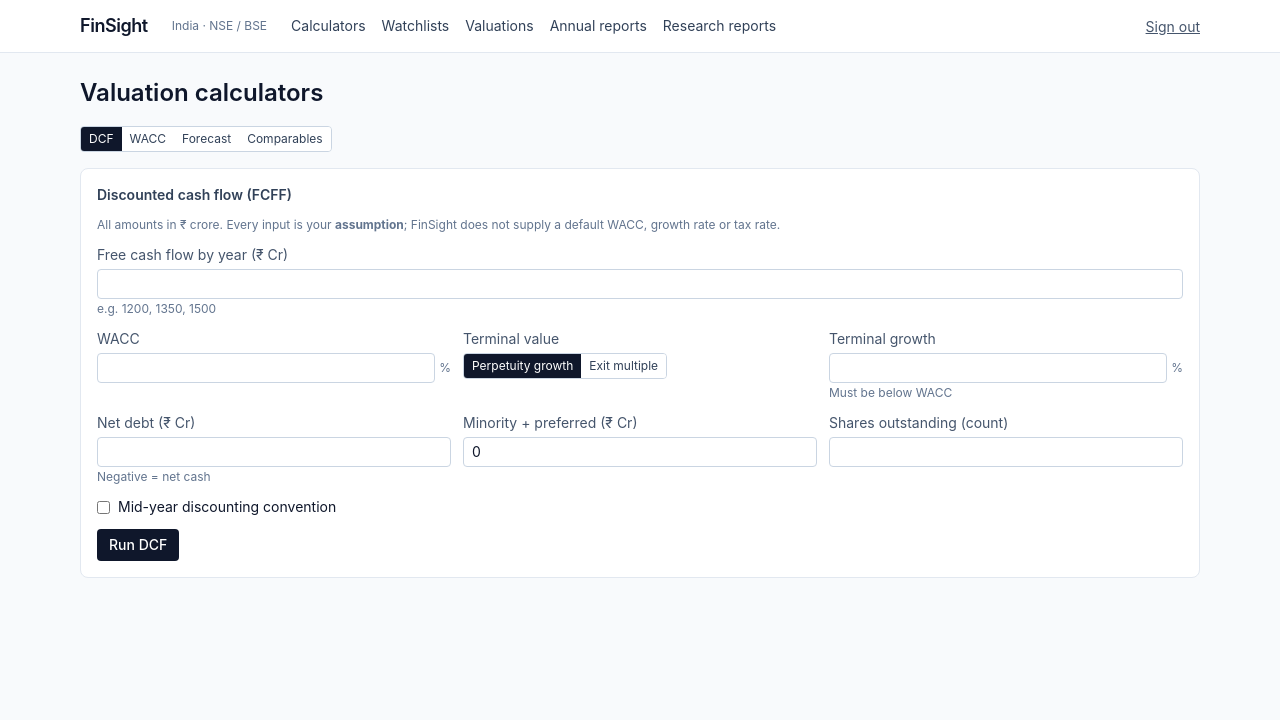
Test: DCF calculator › rejects incomplete input locally
Click the button "Run DCF" at [138, 545], box [97,529,179,561]
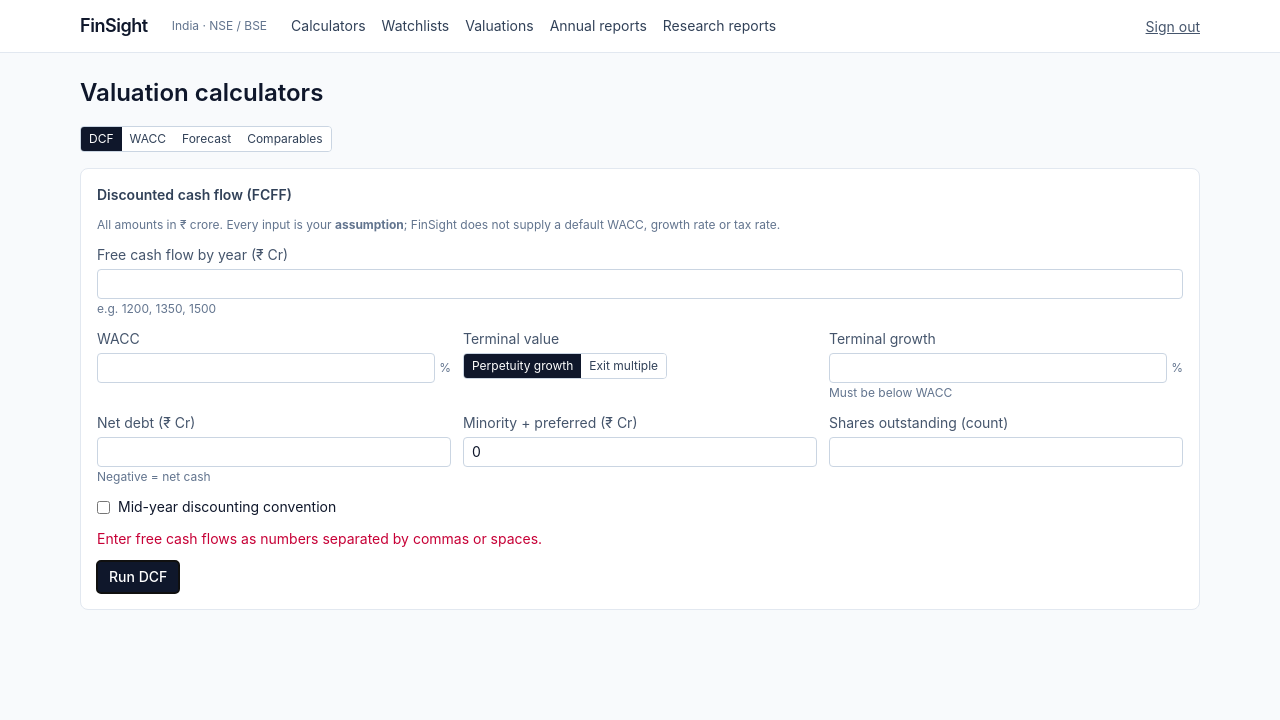
Check: the message shows "free cash flows", box [97,530,542,547]
